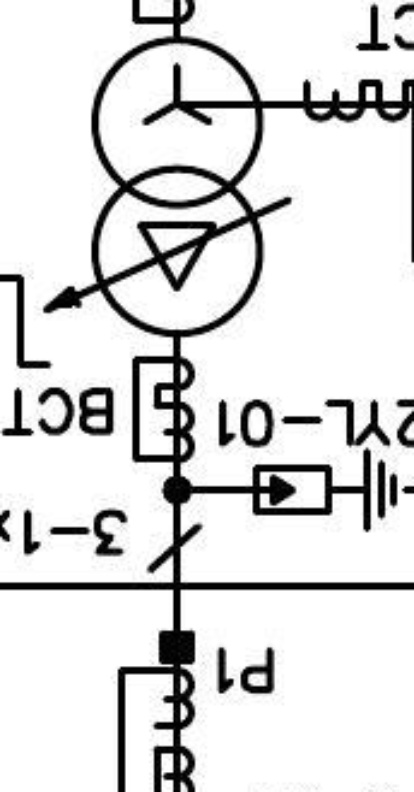11522_tx_dyn1: (89, 34, 265, 339)
